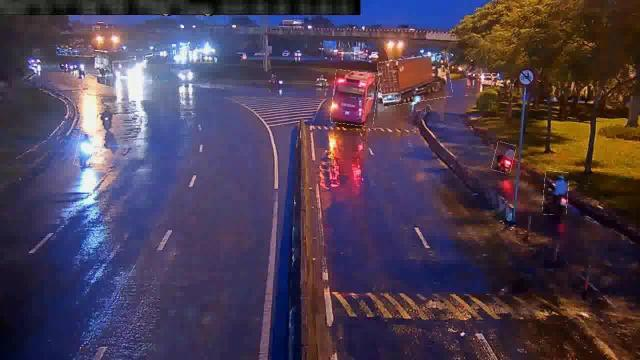Bike: (543, 171, 569, 215), (493, 142, 515, 174), (76, 134, 92, 166), (99, 108, 113, 132)
Bus: (331, 70, 377, 126)
Truck: (378, 56, 452, 104)
